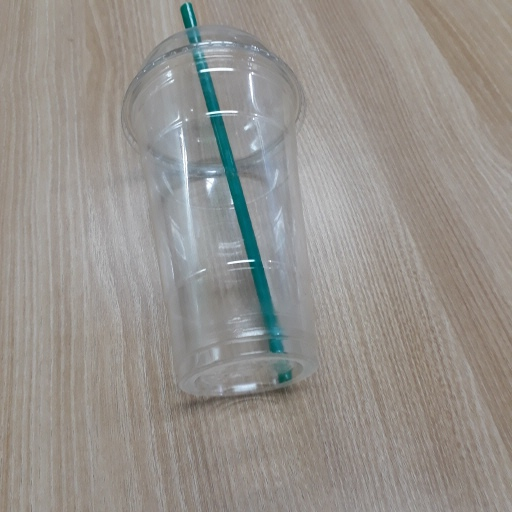Plastic_2: (119, 1, 318, 398)
